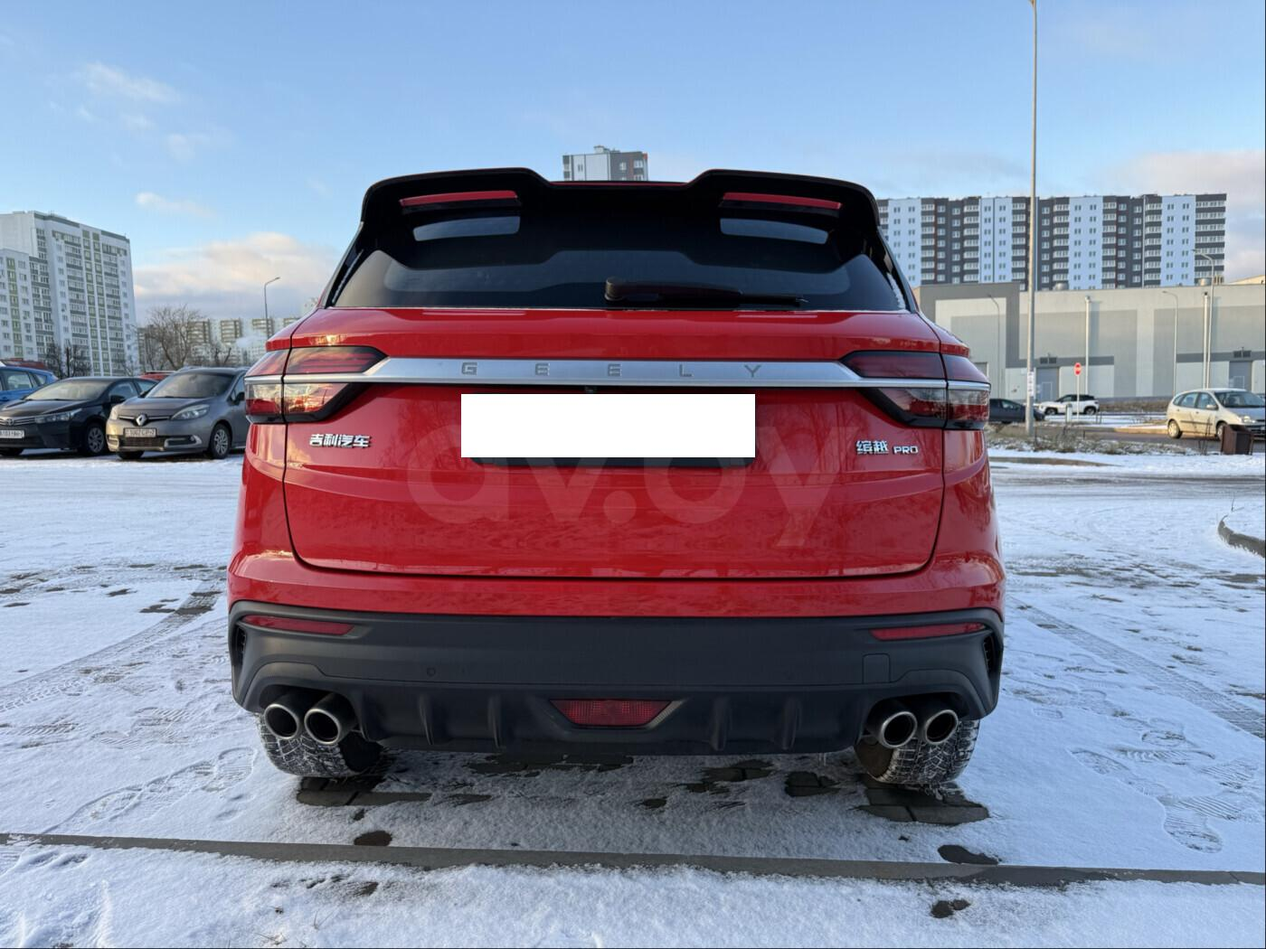Coolray_2019-2023: (217, 169, 1001, 816)
